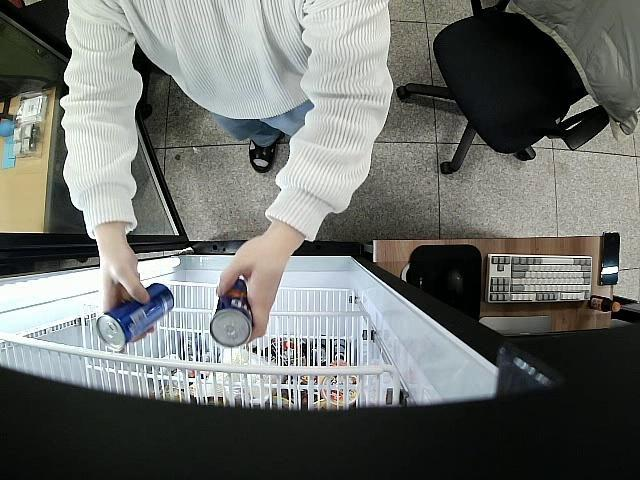16_hot6: (90, 284, 175, 353), (210, 276, 253, 349)
